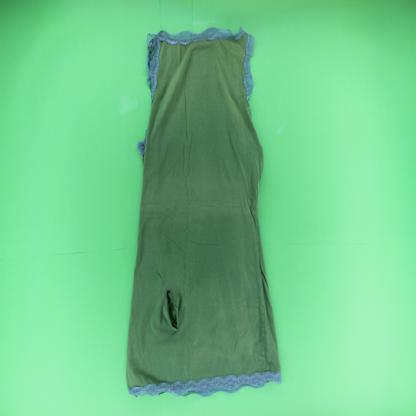hole: (157, 269, 181, 332)
